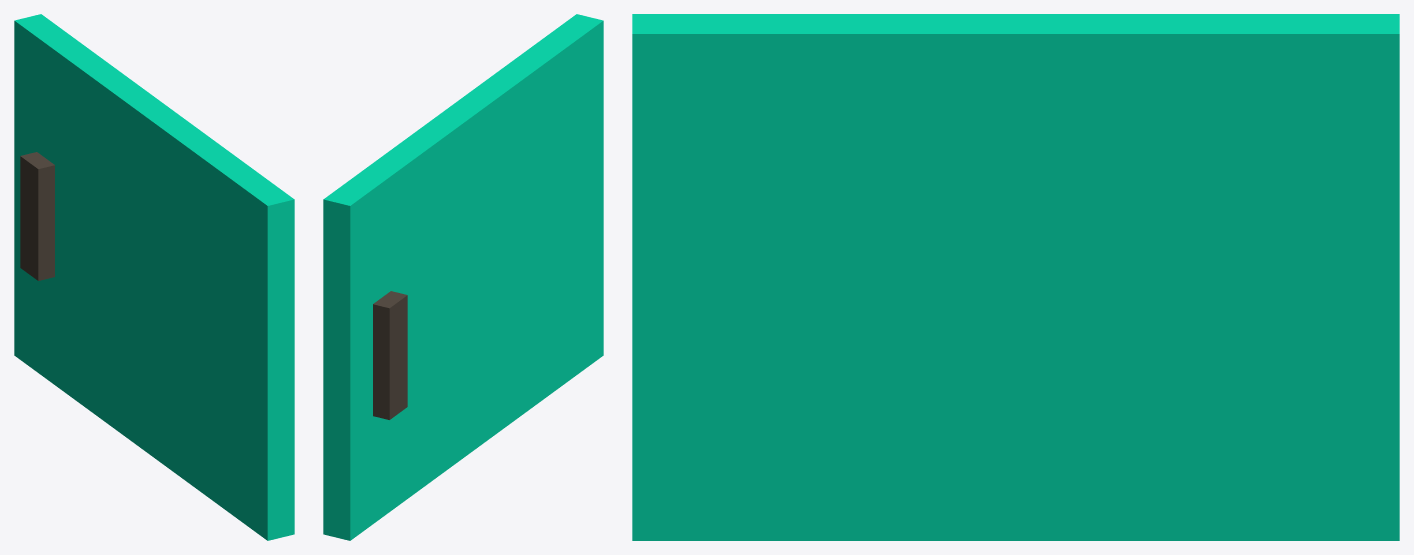
Rendered from tv meubel deur 3.fbx.
The picture shows the model from 3 angles, left to right: view 1: azimuth 30°, elevation 25°; view 2: azimuth 150°, elevation 25°; view 3: azimuth 270°, elevation 25°; orthographic projection. The views are drawn at different scales.
Visible parts, largest first — view 1: tv meubel deur.002; view 2: tv meubel deur.002; view 3: tv meubel deur.002.
Part boxes in pixels (x1=…): tv meubel deur.002: x1=14, y1=14, x2=294, y2=540; tv meubel deur.002: x1=323, y1=14, x2=603, y2=540; tv meubel deur.002: x1=632, y1=14, x2=1399, y2=540.
Size of the model in its own units: 833 by 6108 by 8373.
